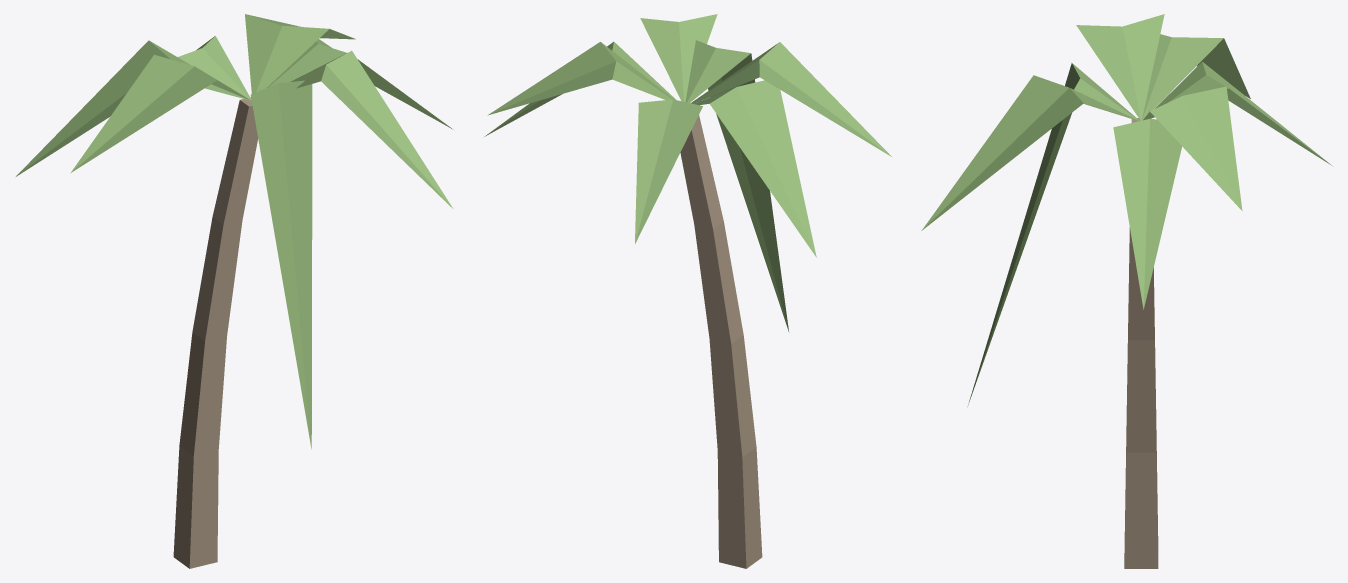
The model's file is palm.glb.
3 views of the same model, side by side, from view 1: azimuth 30°, elevation 25°; view 2: azimuth 150°, elevation 25°; view 3: azimuth 270°, elevation 25° (orthographic). The views are drawn at different scales.
Parts seen in each view (by area): view 1: fronds, trunk; view 2: fronds, trunk; view 3: fronds, trunk.
Boxes of the visible parts, <box> form: fronds: <box>16,14,453,449</box>; trunk: <box>173,97,258,568</box>; fronds: <box>484,14,891,332</box>; trunk: <box>680,115,762,568</box>; fronds: <box>921,14,1331,406</box>; trunk: <box>1124,118,1158,568</box>.
Size of the model in its own units: 5.27 by 6.35 by 4.47.
